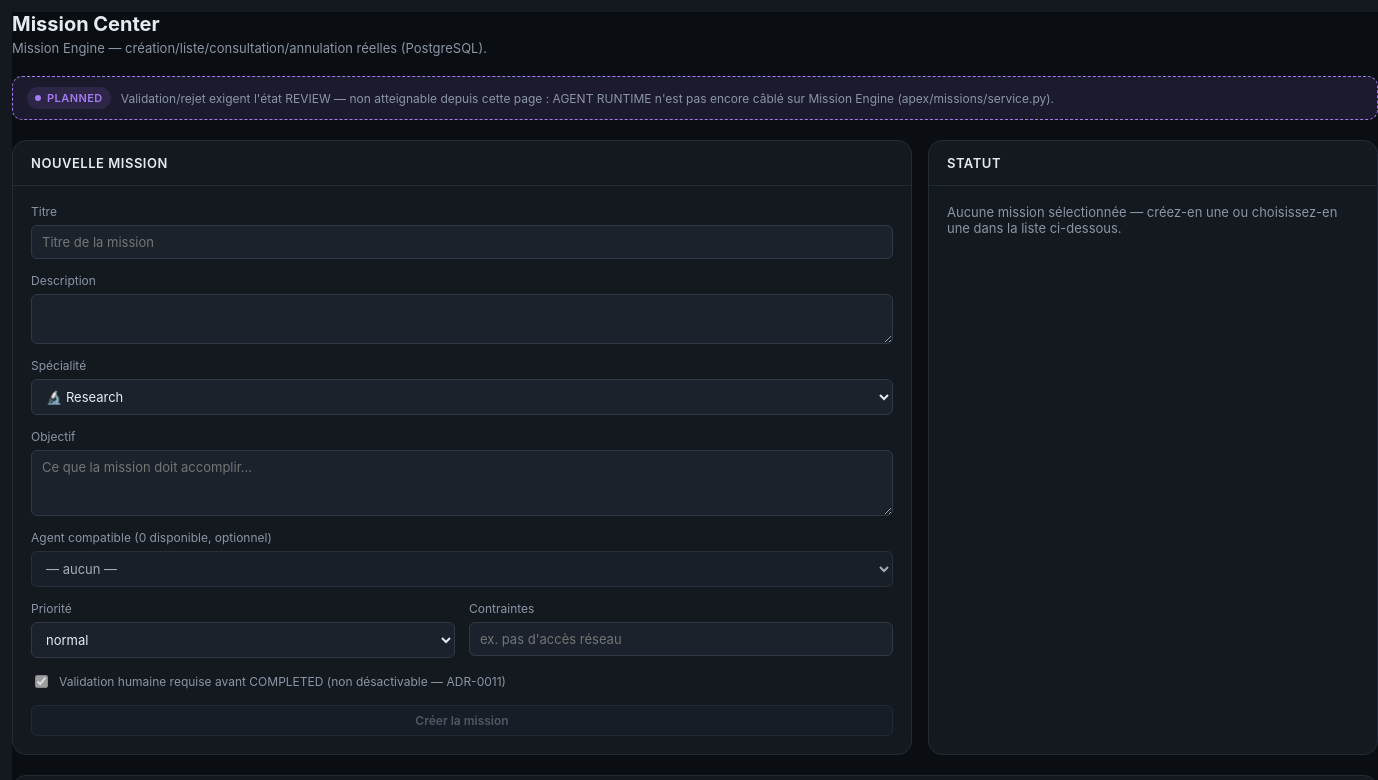
MissionCenterPage › submits a real mission creation and displays the mission returned by the API
In the field with placeholder "Titre de la mission": (462, 242) 31,225 -> 893,259, type "Ma mission"
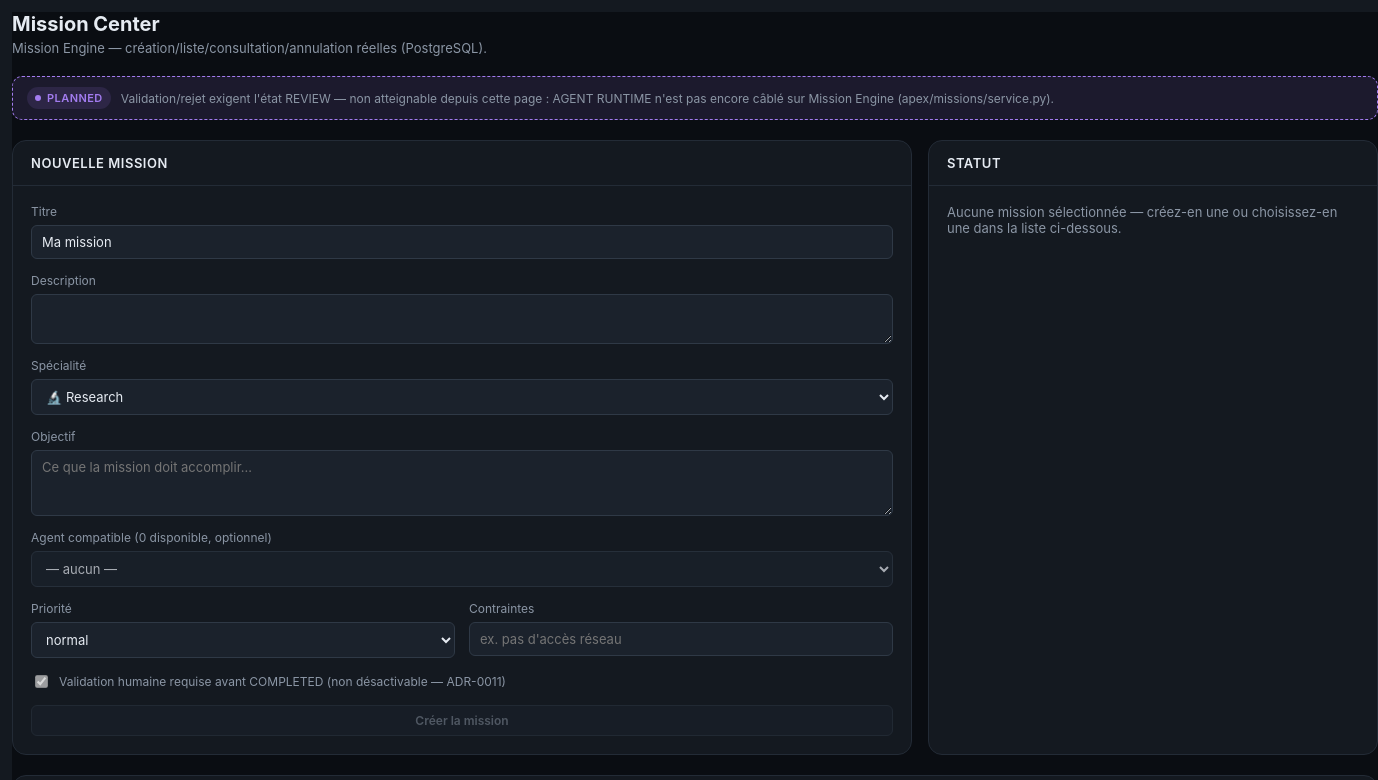
In the text box with placeholder "Ce que la mission doit accomplir…": (462, 483) 31,450 -> 893,516, type "trouver"
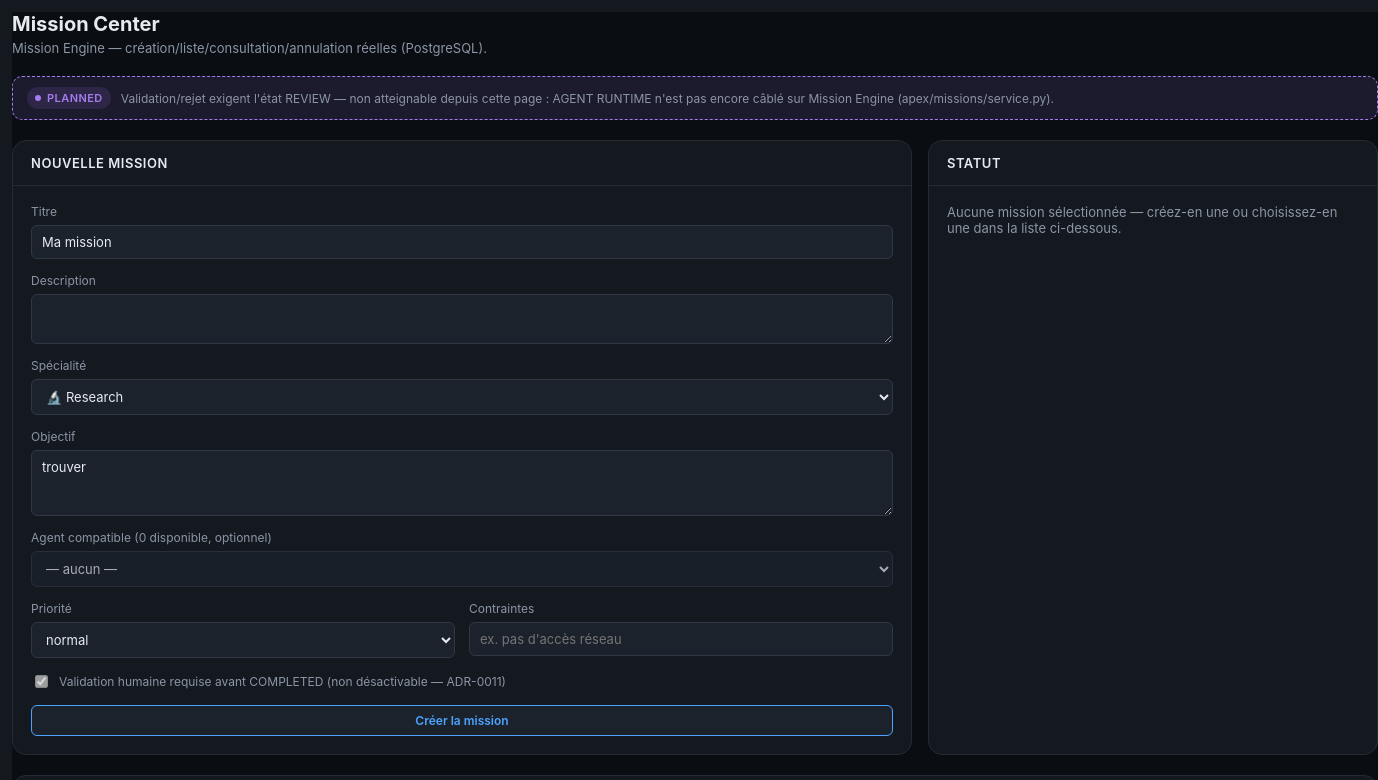
Expected: the button "Créer la mission" is enabled
Click the button "Créer la mission": (462, 720) 31,705 -> 893,736
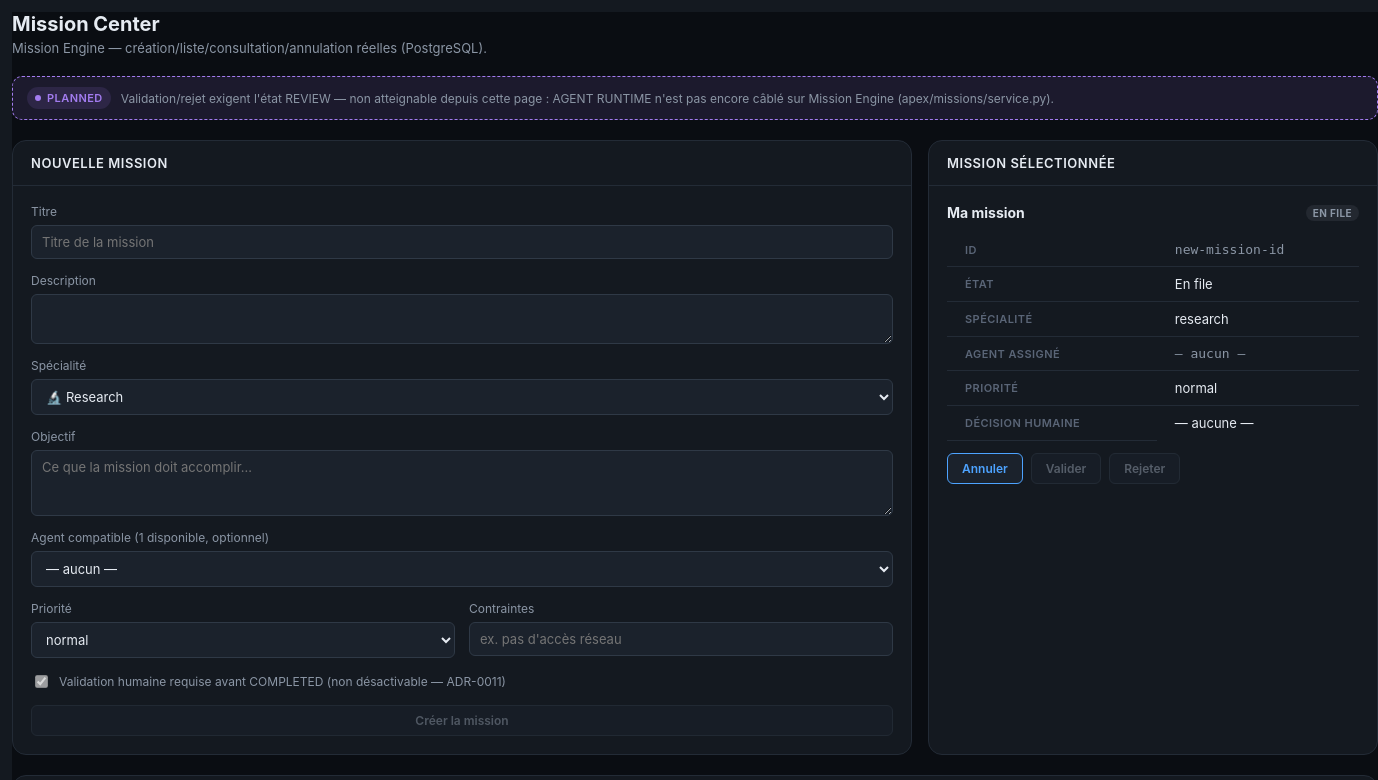
Expected: the text "new-mission-id" is shown, 1157,233 -> 1359,266
